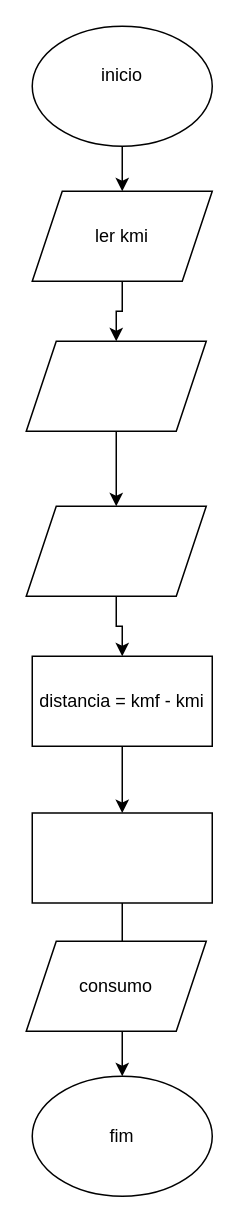
Some shapes in this 239 by 1223 pixel diagram are drawn without their labels. The box of each missing label's shape, as (x1, y1, x2, y2) in pixels:
consumo = (listrosg * 100) / distancia: (31, 812, 212, 903)
ler kmf: (25, 340, 206, 431)
ler litrosg: (25, 505, 206, 596)
